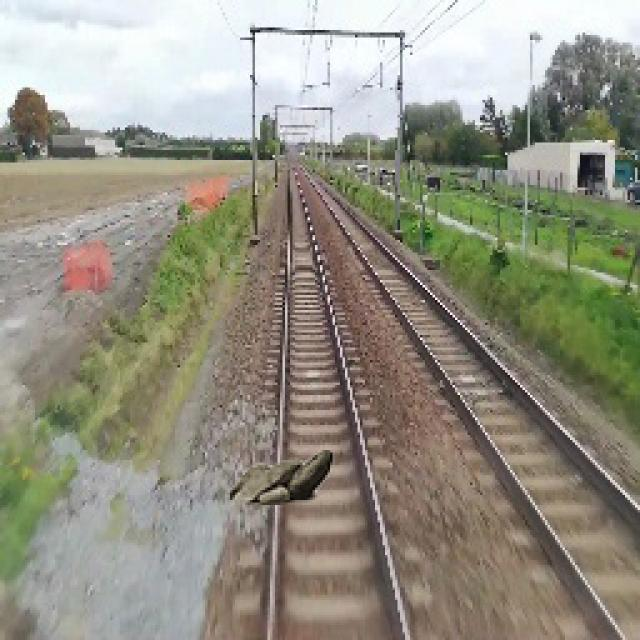rail: (236, 157, 446, 640)
